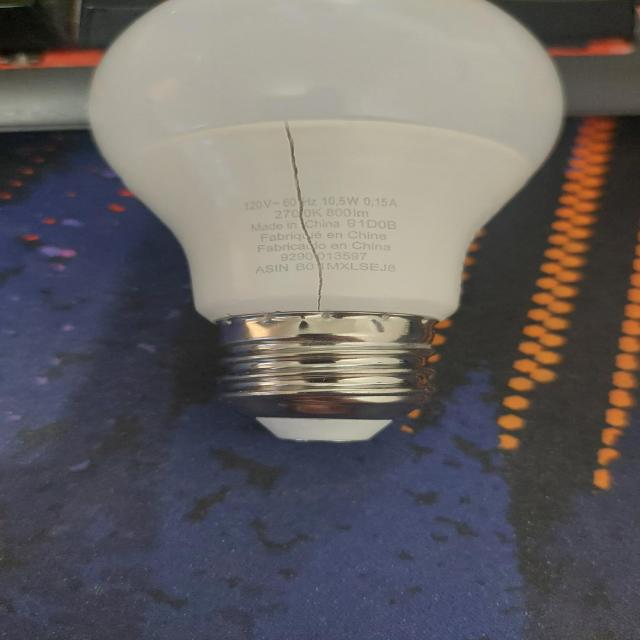bulb: (62, 0, 570, 448)
